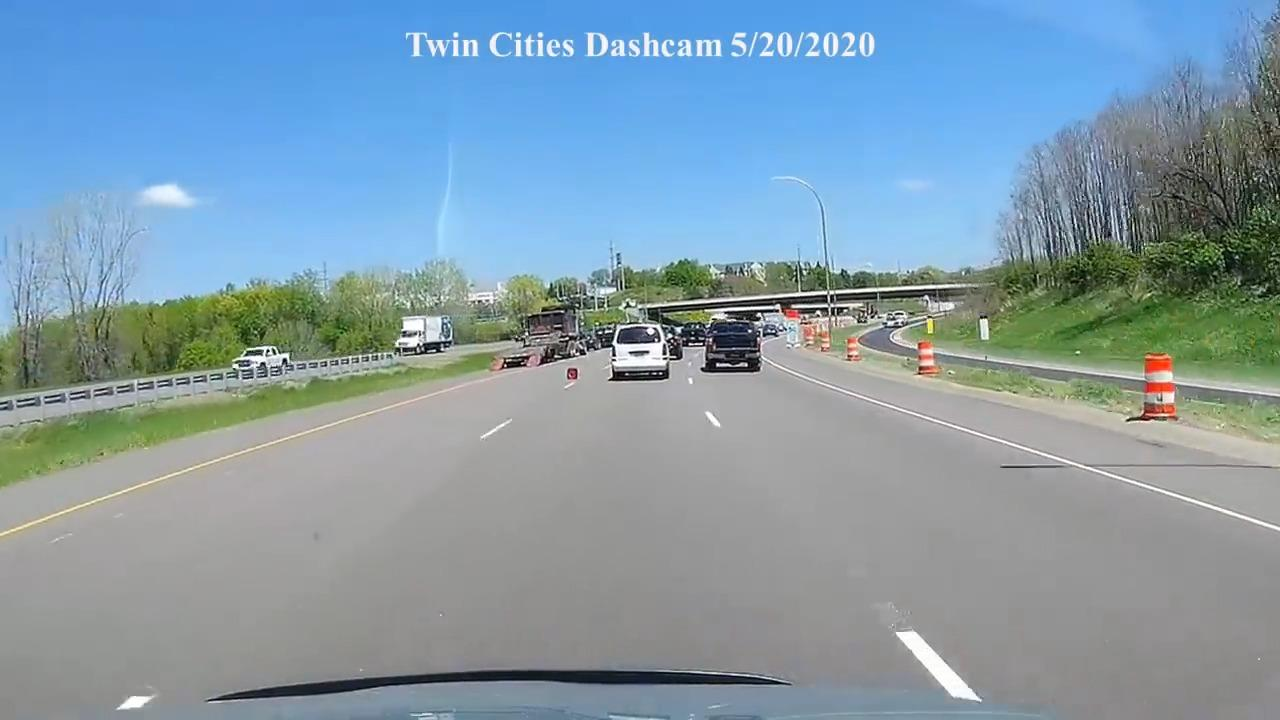car: (609, 323, 671, 381), (702, 320, 763, 372), (231, 346, 292, 379)
traffic cone: (1124, 353, 1180, 424), (915, 340, 940, 376), (845, 337, 861, 363), (564, 367, 579, 388)
